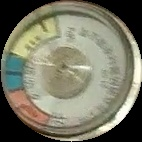green: (3, 53, 27, 91)
red: (6, 90, 52, 129)
yellow: (12, 13, 60, 60)
